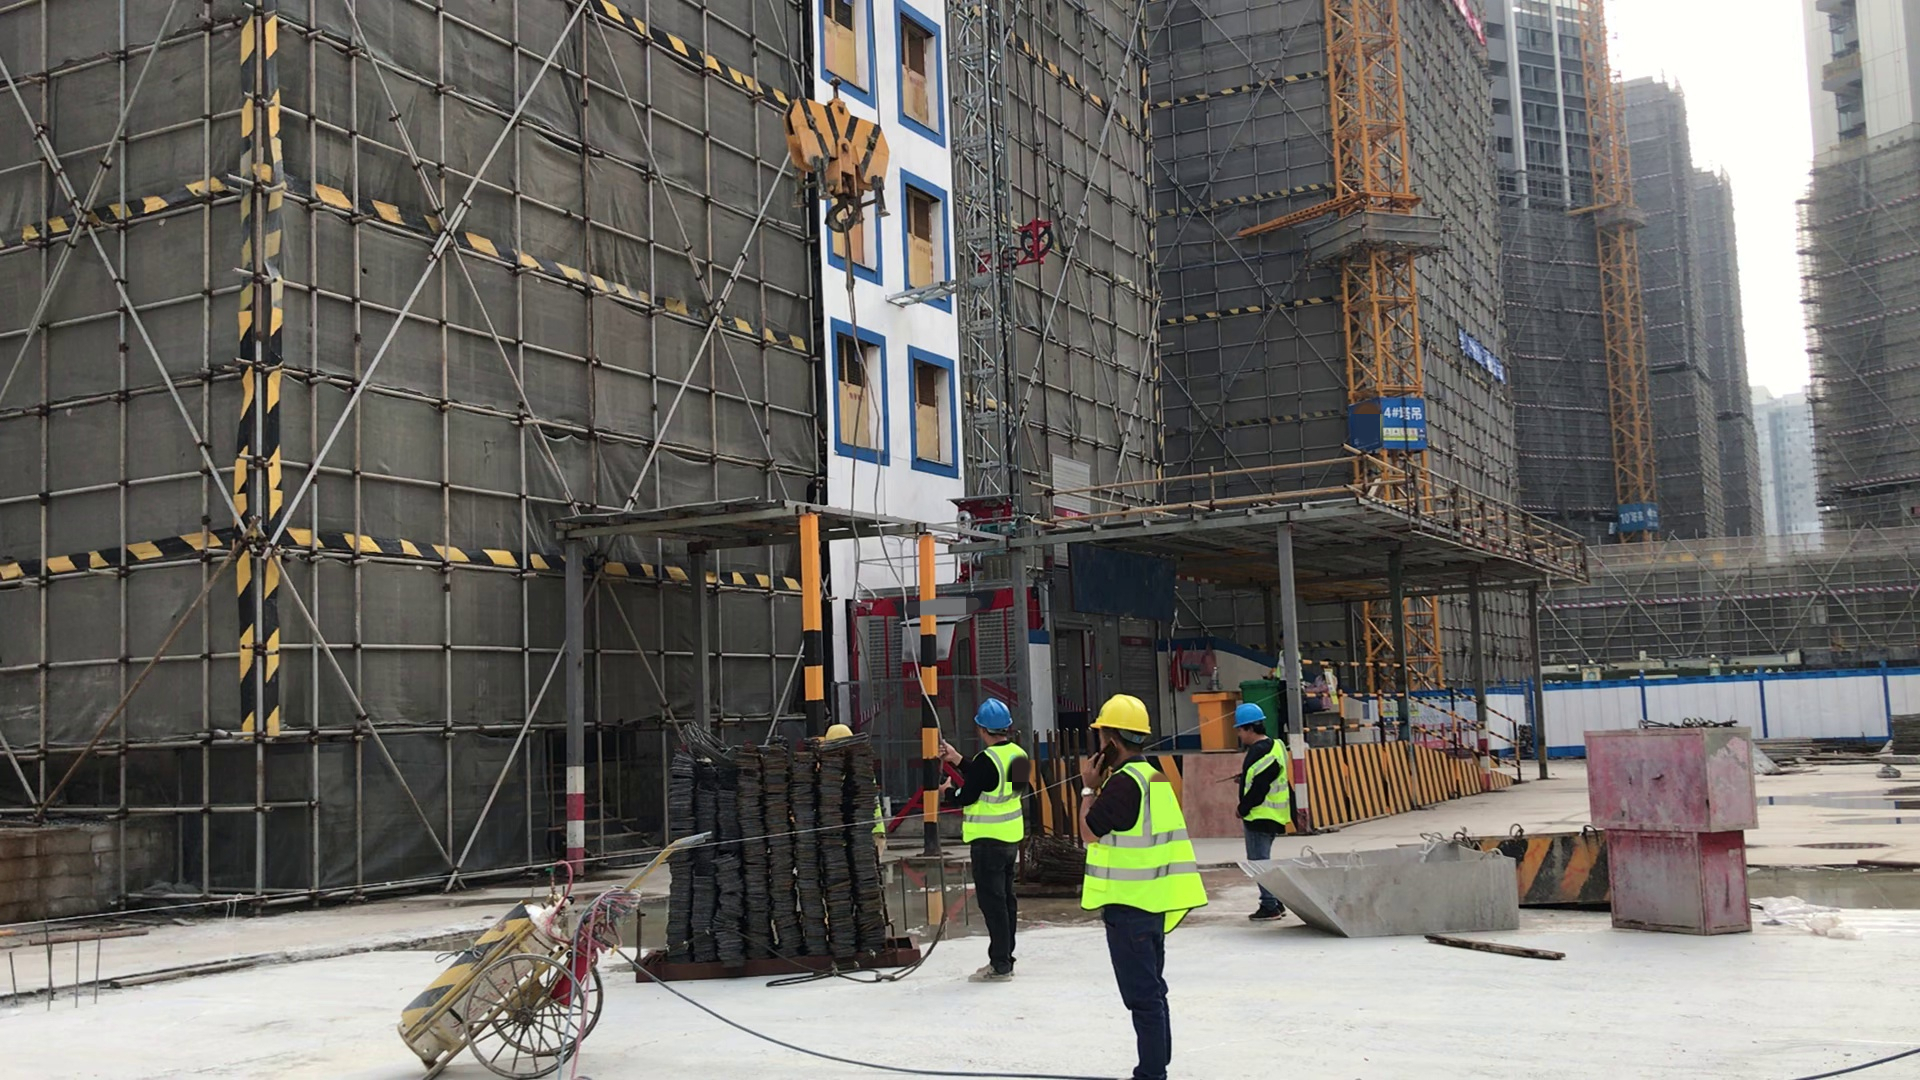handcart: (390, 822, 710, 1080)
helmet: (1090, 691, 1153, 742), (972, 698, 1019, 732), (1233, 700, 1267, 727), (819, 724, 855, 740)
hook: (769, 64, 914, 251)
hopper: (1233, 852, 1529, 937), (1453, 825, 1612, 914)
person: (1079, 685, 1210, 1080), (945, 695, 1035, 989), (1231, 700, 1294, 926), (1269, 627, 1300, 743), (1310, 657, 1339, 711)
slogan: (1454, 319, 1511, 393), (1373, 399, 1432, 448), (1611, 502, 1665, 535)
vest: (1080, 766, 1208, 931), (964, 743, 1026, 840), (1246, 741, 1292, 830)
